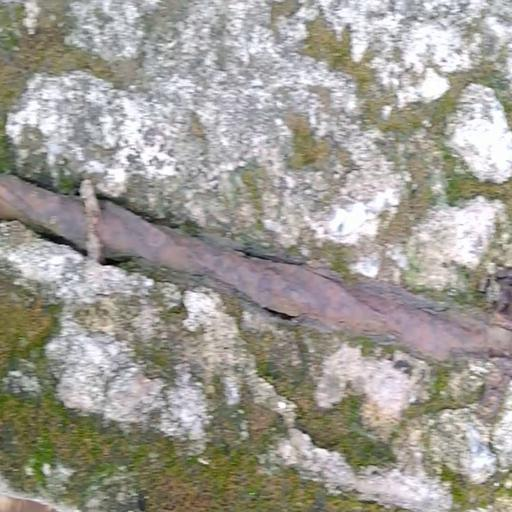spalling: (5, 25, 512, 512)
